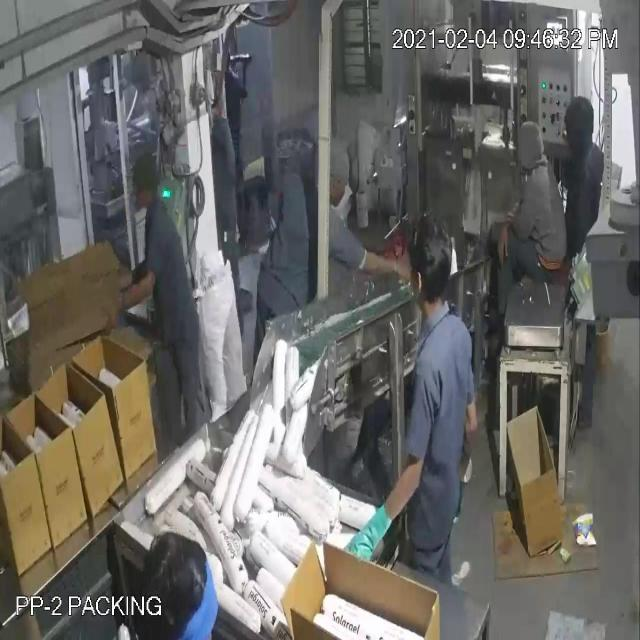Gloves: (54, 38, 379, 536)
